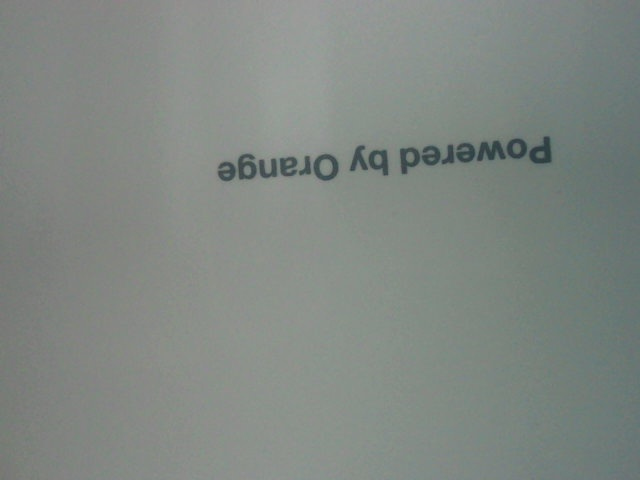AS_PowerByOrange: (199, 123, 569, 184)
